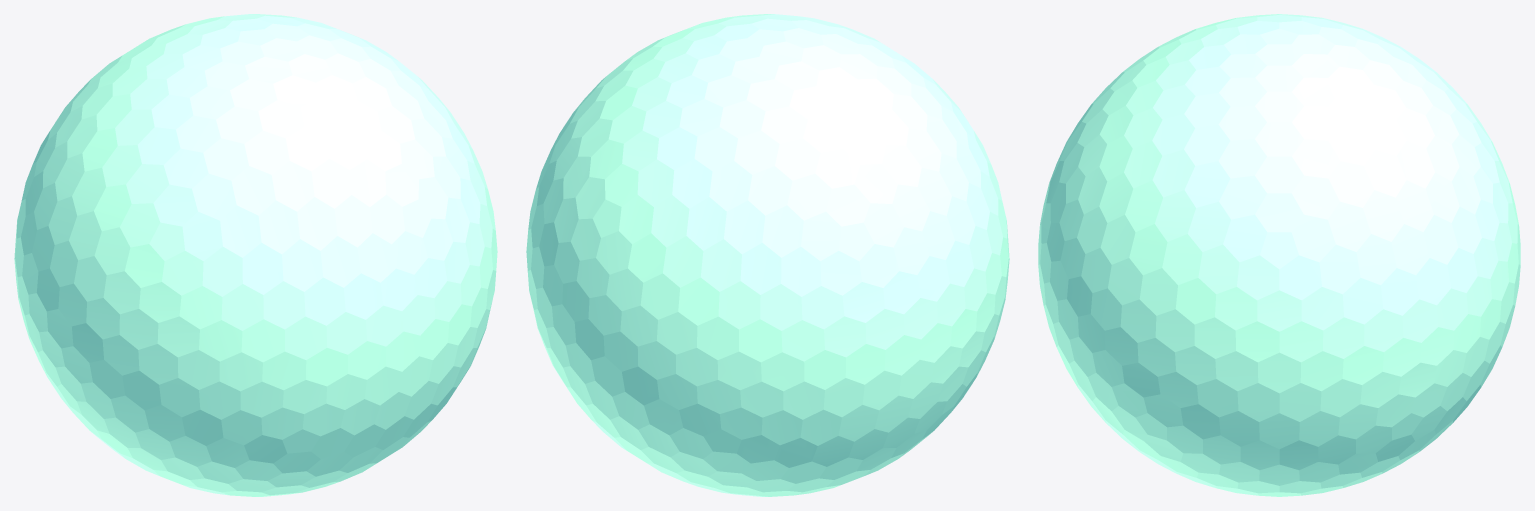
File: SM_Prop_Shield_Bubble_01.fbx
The picture shows the model from 3 angles, left to right: view 1: azimuth 30°, elevation 25°; view 2: azimuth 150°, elevation 25°; view 3: azimuth 270°, elevation 25°; orthographic projection.
Parts seen in each view (by area): view 1: SM_Prop_Shield_Bubble_01; view 2: SM_Prop_Shield_Bubble_01; view 3: SM_Prop_Shield_Bubble_01.
Part boxes in pixels (x1,y1,x2,y2): SM_Prop_Shield_Bubble_01: (14, 14, 497, 496); SM_Prop_Shield_Bubble_01: (526, 14, 1009, 496); SM_Prop_Shield_Bubble_01: (1038, 14, 1520, 496).
Size of the model in its own units: 610 by 608 by 609.
